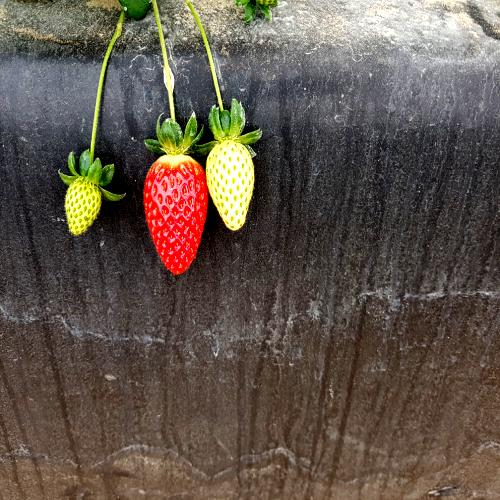ripe: (140, 149, 208, 284)
unripe: (205, 138, 258, 236), (56, 170, 105, 246)
